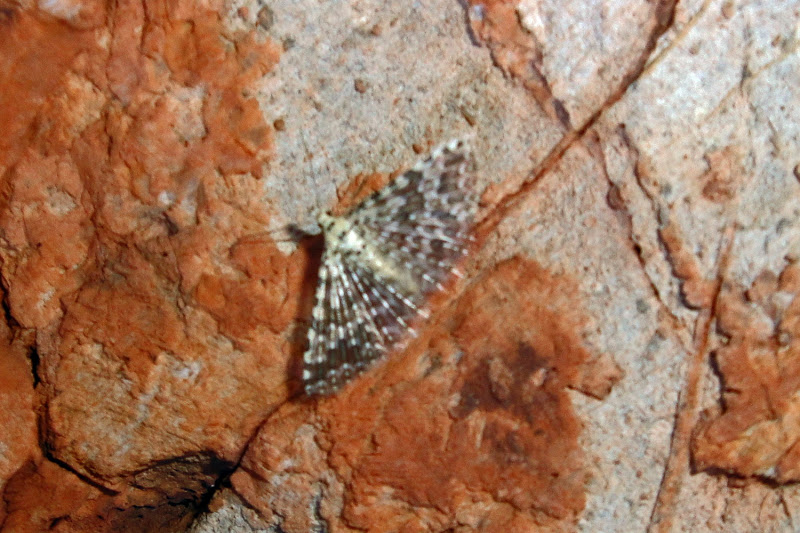Alucitidae: (229, 127, 499, 398)
moth: (227, 125, 497, 396)
